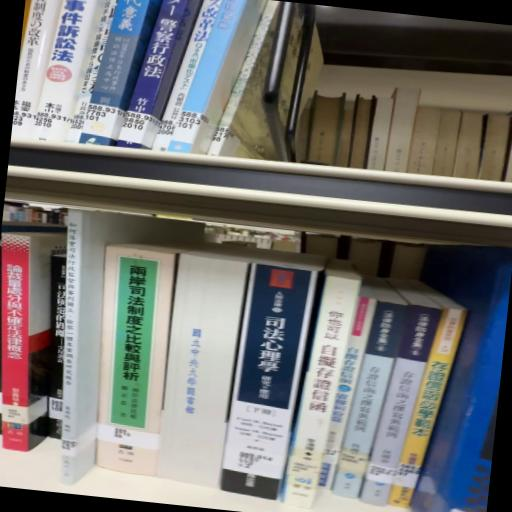backward: (157, 252, 248, 488)
book: (222, 259, 326, 505), (281, 267, 366, 512), (0, 221, 67, 454)
